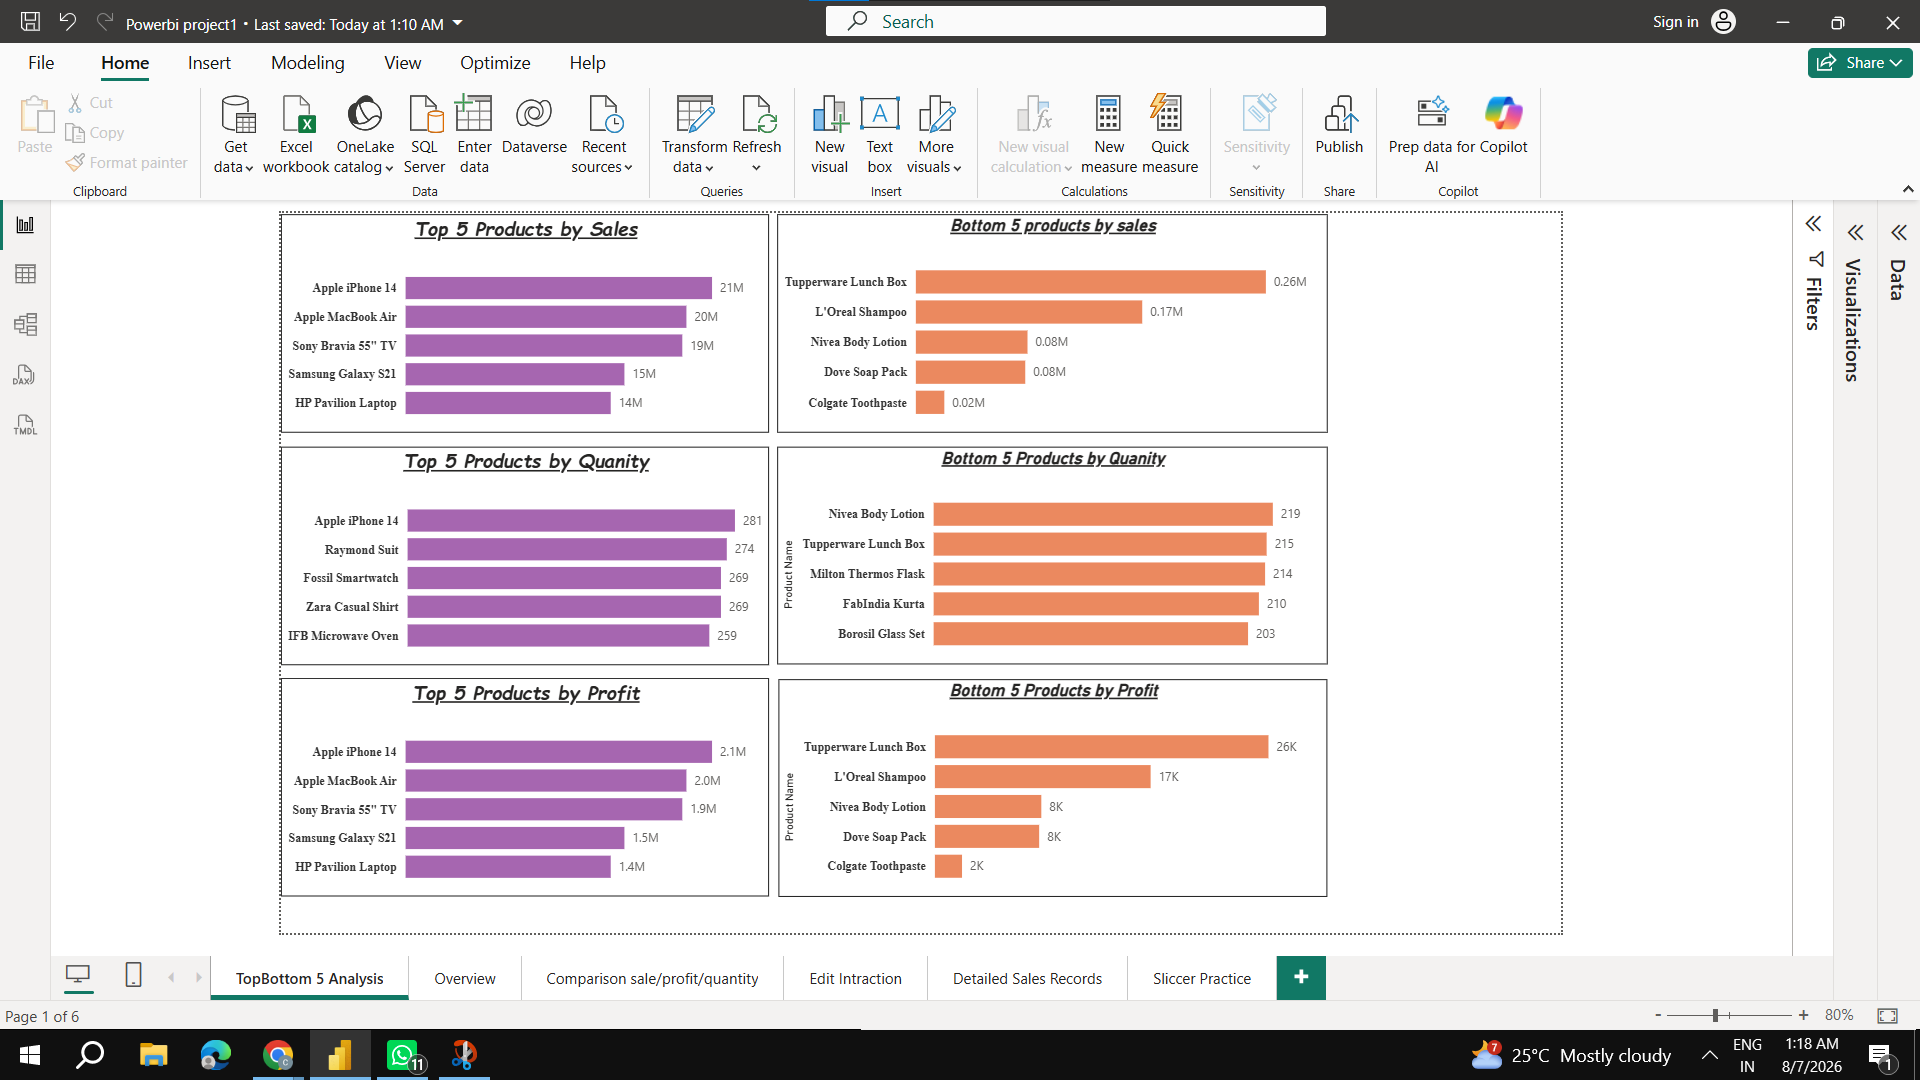

What the dashboard file says about the page in this screenshot:
{"tool":"powerbi","page":{"name":"TopBottom  5 Analysis","canvas":[1280,720],"ordinal":0},"visuals":[{"type":"barChart","title":"Top 5 Products by Sales","fields":{"Y":["Sum(Fact Table.Net sales  )"],"Category":["Dim Product.Product Name"]},"box":[0,1.7,488.3,218.3],"z":0},{"type":"barChart","title":"Bottom 5 products by sales","fields":{"Y":["Sum(Fact Table.Net sales  )"],"Category":["Dim Product.Product Name"]},"box":[496.2,1.2,550,218.8],"z":1000},{"type":"barChart","title":"Top 5 Products by Quanity","fields":{"Category":["Dim Product.Product Name"],"Y":["Sum(Fact Table.Units Sold)"]},"box":[0,233.3,488.3,218.3],"z":2000},{"type":"barChart","title":"Bottom 5 Products by Quanity","fields":{"Category":["Dim Product.Product Name"],"Y":["Sum(Fact Table.Units Sold)"]},"box":[496.2,233.8,550,217.5],"z":3000},{"type":"barChart","title":"Top 5 Products by Profit","fields":{"Category":["Dim Product.Product Name"],"Y":["Sum(Fact Table.Profit)"]},"box":[0,465,488.3,218.3],"z":4000},{"type":"barChart","title":"Bottom 5 Products by Profit","fields":{"Category":["Dim Product.Product Name"],"Y":["Sum(Fact Table.Profit)"]},"box":[497.5,466.2,548.8,217.5],"z":5000}]}

Visuals, with their boxes on the page's 1280x720 design canvas (x1, y1, x2, y2). These are canvas units, not pixel positions in the 1920x1080 screenshot, which may show the page scaled, cropped or inside an application window:
"Top 5 Products by Sales" barChart: rect(0, 2, 488, 220)
"Bottom 5 products by sales" barChart: rect(496, 1, 1046, 220)
"Top 5 Products by Quanity" barChart: rect(0, 233, 488, 452)
"Bottom 5 Products by Quanity" barChart: rect(496, 234, 1046, 451)
"Top 5 Products by Profit" barChart: rect(0, 465, 488, 683)
"Bottom 5 Products by Profit" barChart: rect(498, 466, 1046, 684)
